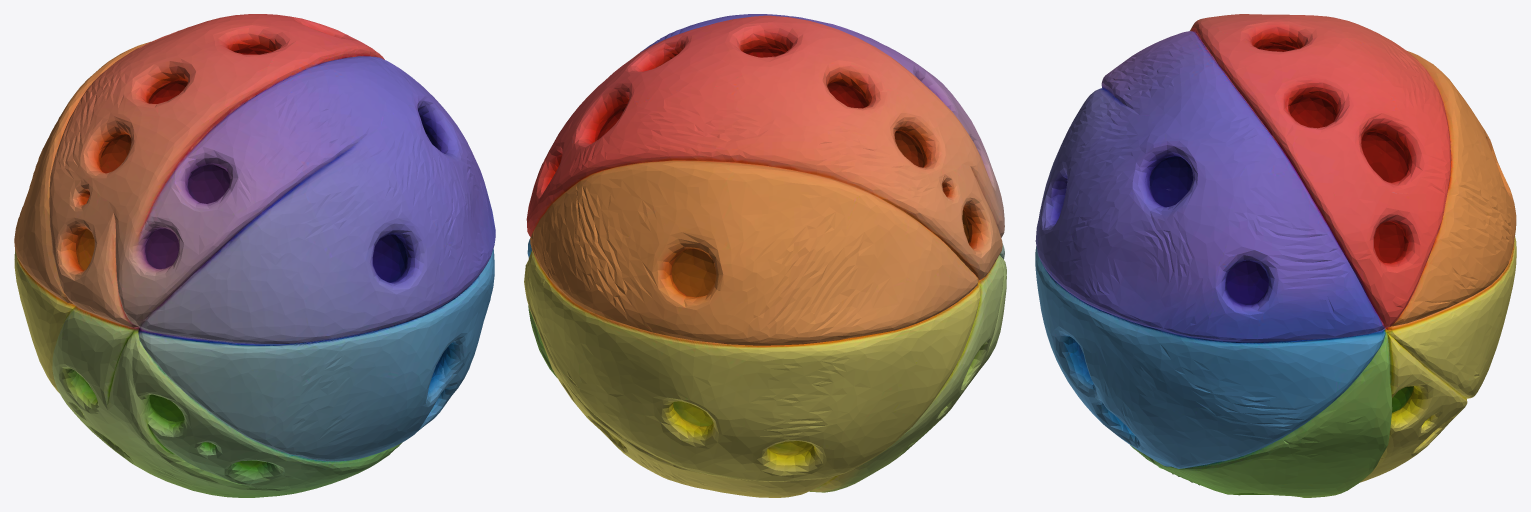
The model's file is toy_6.glb.
The picture shows the model from 3 angles, left to right: view 1: azimuth 30°, elevation 25°; view 2: azimuth 150°, elevation 25°; view 3: azimuth 270°, elevation 25°; orthographic projection.
Visible parts, largest first — view 1: tripo_node_34ade859-75e0-4365-8af8-205918f8d69f; view 2: tripo_node_34ade859-75e0-4365-8af8-205918f8d69f; view 3: tripo_node_34ade859-75e0-4365-8af8-205918f8d69f.
Boxes of the visible parts, bbox=[...] form: tripo_node_34ade859-75e0-4365-8af8-205918f8d69f: bbox=[14, 14, 495, 497]; tripo_node_34ade859-75e0-4365-8af8-205918f8d69f: bbox=[524, 14, 1006, 497]; tripo_node_34ade859-75e0-4365-8af8-205918f8d69f: bbox=[1035, 14, 1516, 497].
Size of the model in its own units: 0.9998 by 1 by 0.9993.
1 material, 1 textured.
